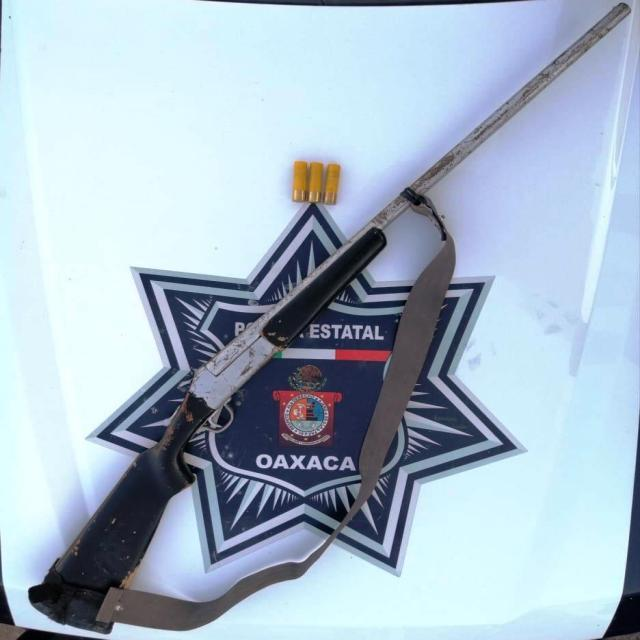weapon: (26, 2, 634, 636)
